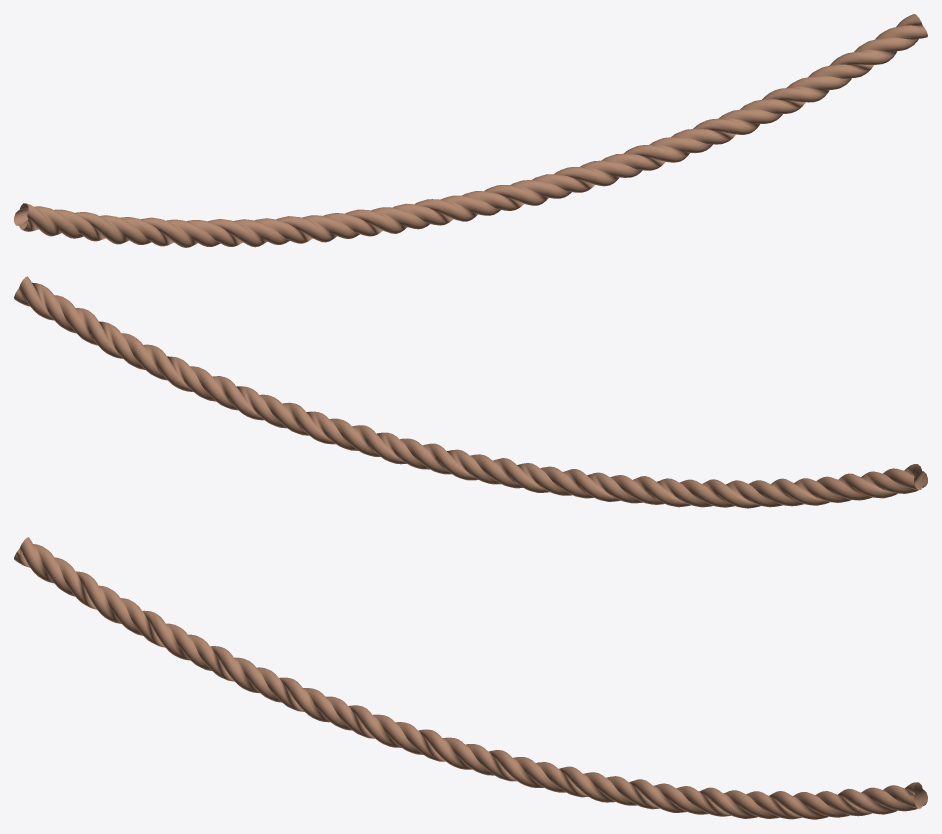
Rendered from rope_straight.glb.
3 views of the same model, one above another, from view 1: azimuth 30°, elevation 25°; view 2: azimuth 150°, elevation 25°; view 3: azimuth 330°, elevation 25° (orthographic).
Parts seen in each view (by area): view 1: Circle.006; view 2: Circle.006; view 3: Circle.006.
Boxes of the visible parts, box(x1,y1,x2,y2) form: Circle.006: box(14, 14, 927, 247); Circle.006: box(14, 276, 927, 508); Circle.006: box(14, 537, 927, 819).
Size of the model in its own units: 5.87 by 0.7731 by 0.175.
